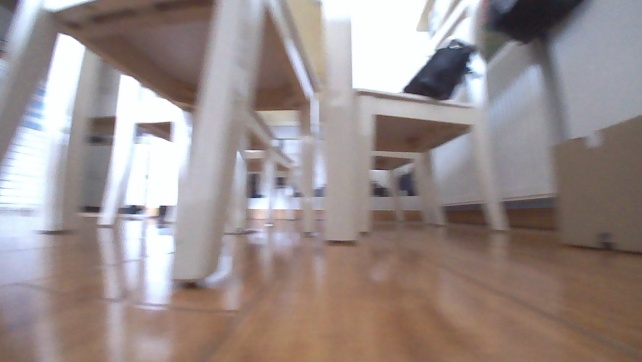dining_table1: (0, 0, 516, 284)
